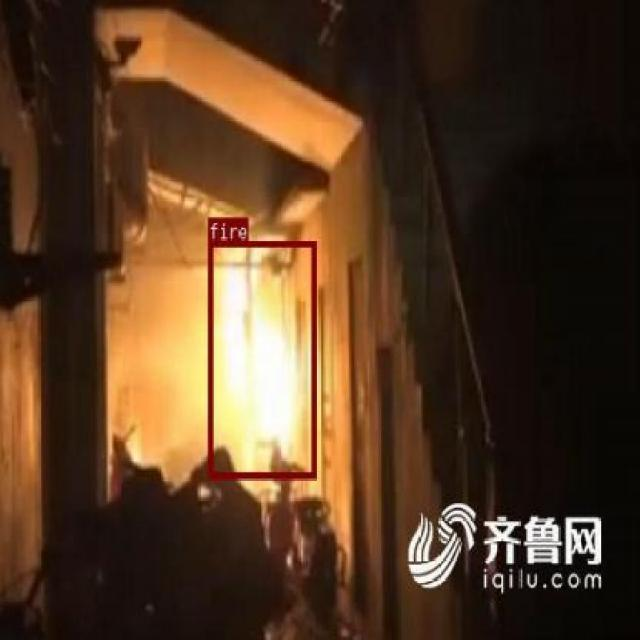Fire: (208, 239, 316, 476)
